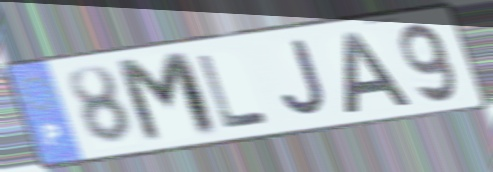8: (69, 64, 133, 151)
9: (398, 19, 460, 104)
A: (341, 30, 414, 117)
J: (279, 37, 331, 120)
L: (194, 51, 273, 130)
M: (111, 48, 226, 148)
